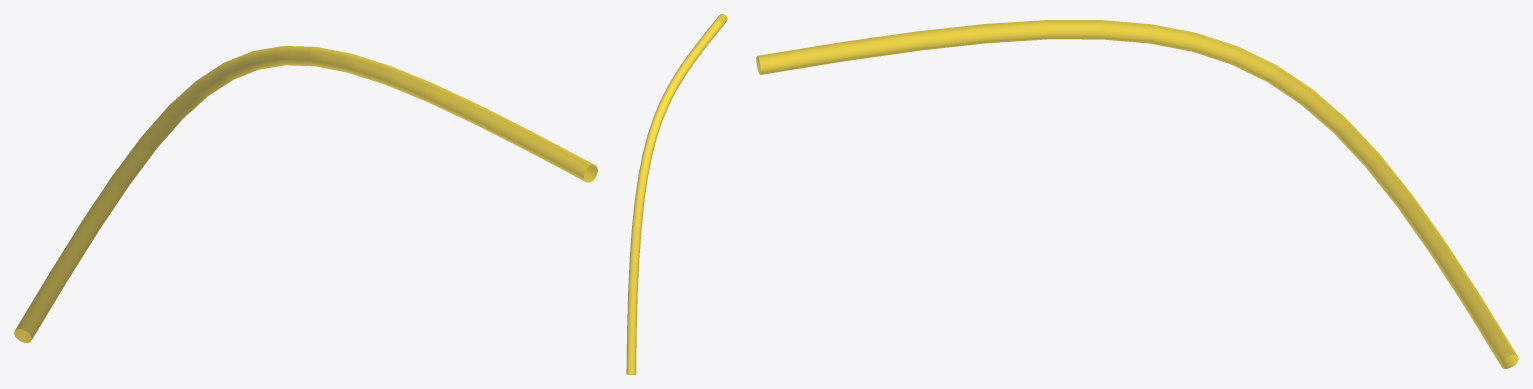
The model's file is Event_17758602_track_176.fbx.
The picture shows the model from 3 angles, left to right: view 1: azimuth 30°, elevation 25°; view 2: azimuth 150°, elevation 25°; view 3: azimuth 270°, elevation 25°; orthographic projection. The views are drawn at different scales.
Parts seen in each view (by area): view 1: Model; view 2: Model; view 3: Model.
Boxes of the visible parts, left/top/right/bottom form: Model: left=14, top=46, right=597, bottom=342; Model: left=626, top=14, right=727, bottom=374; Model: left=756, top=20, right=1518, bottom=368.
Size of the model in its own units: 0.4953 by 0.9355 by 1.57.
